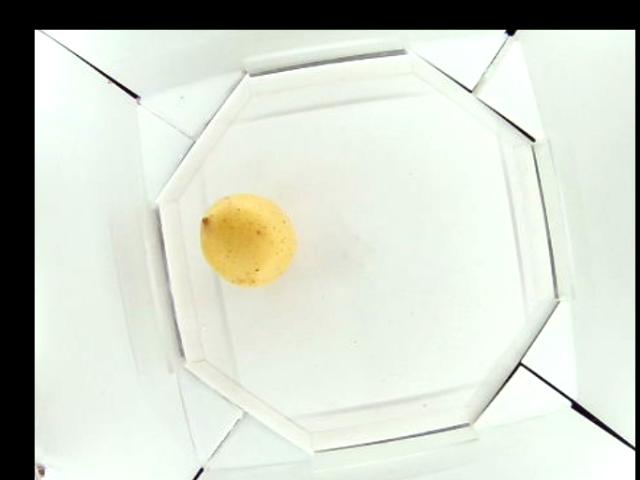Potato: (199, 193, 292, 287)
